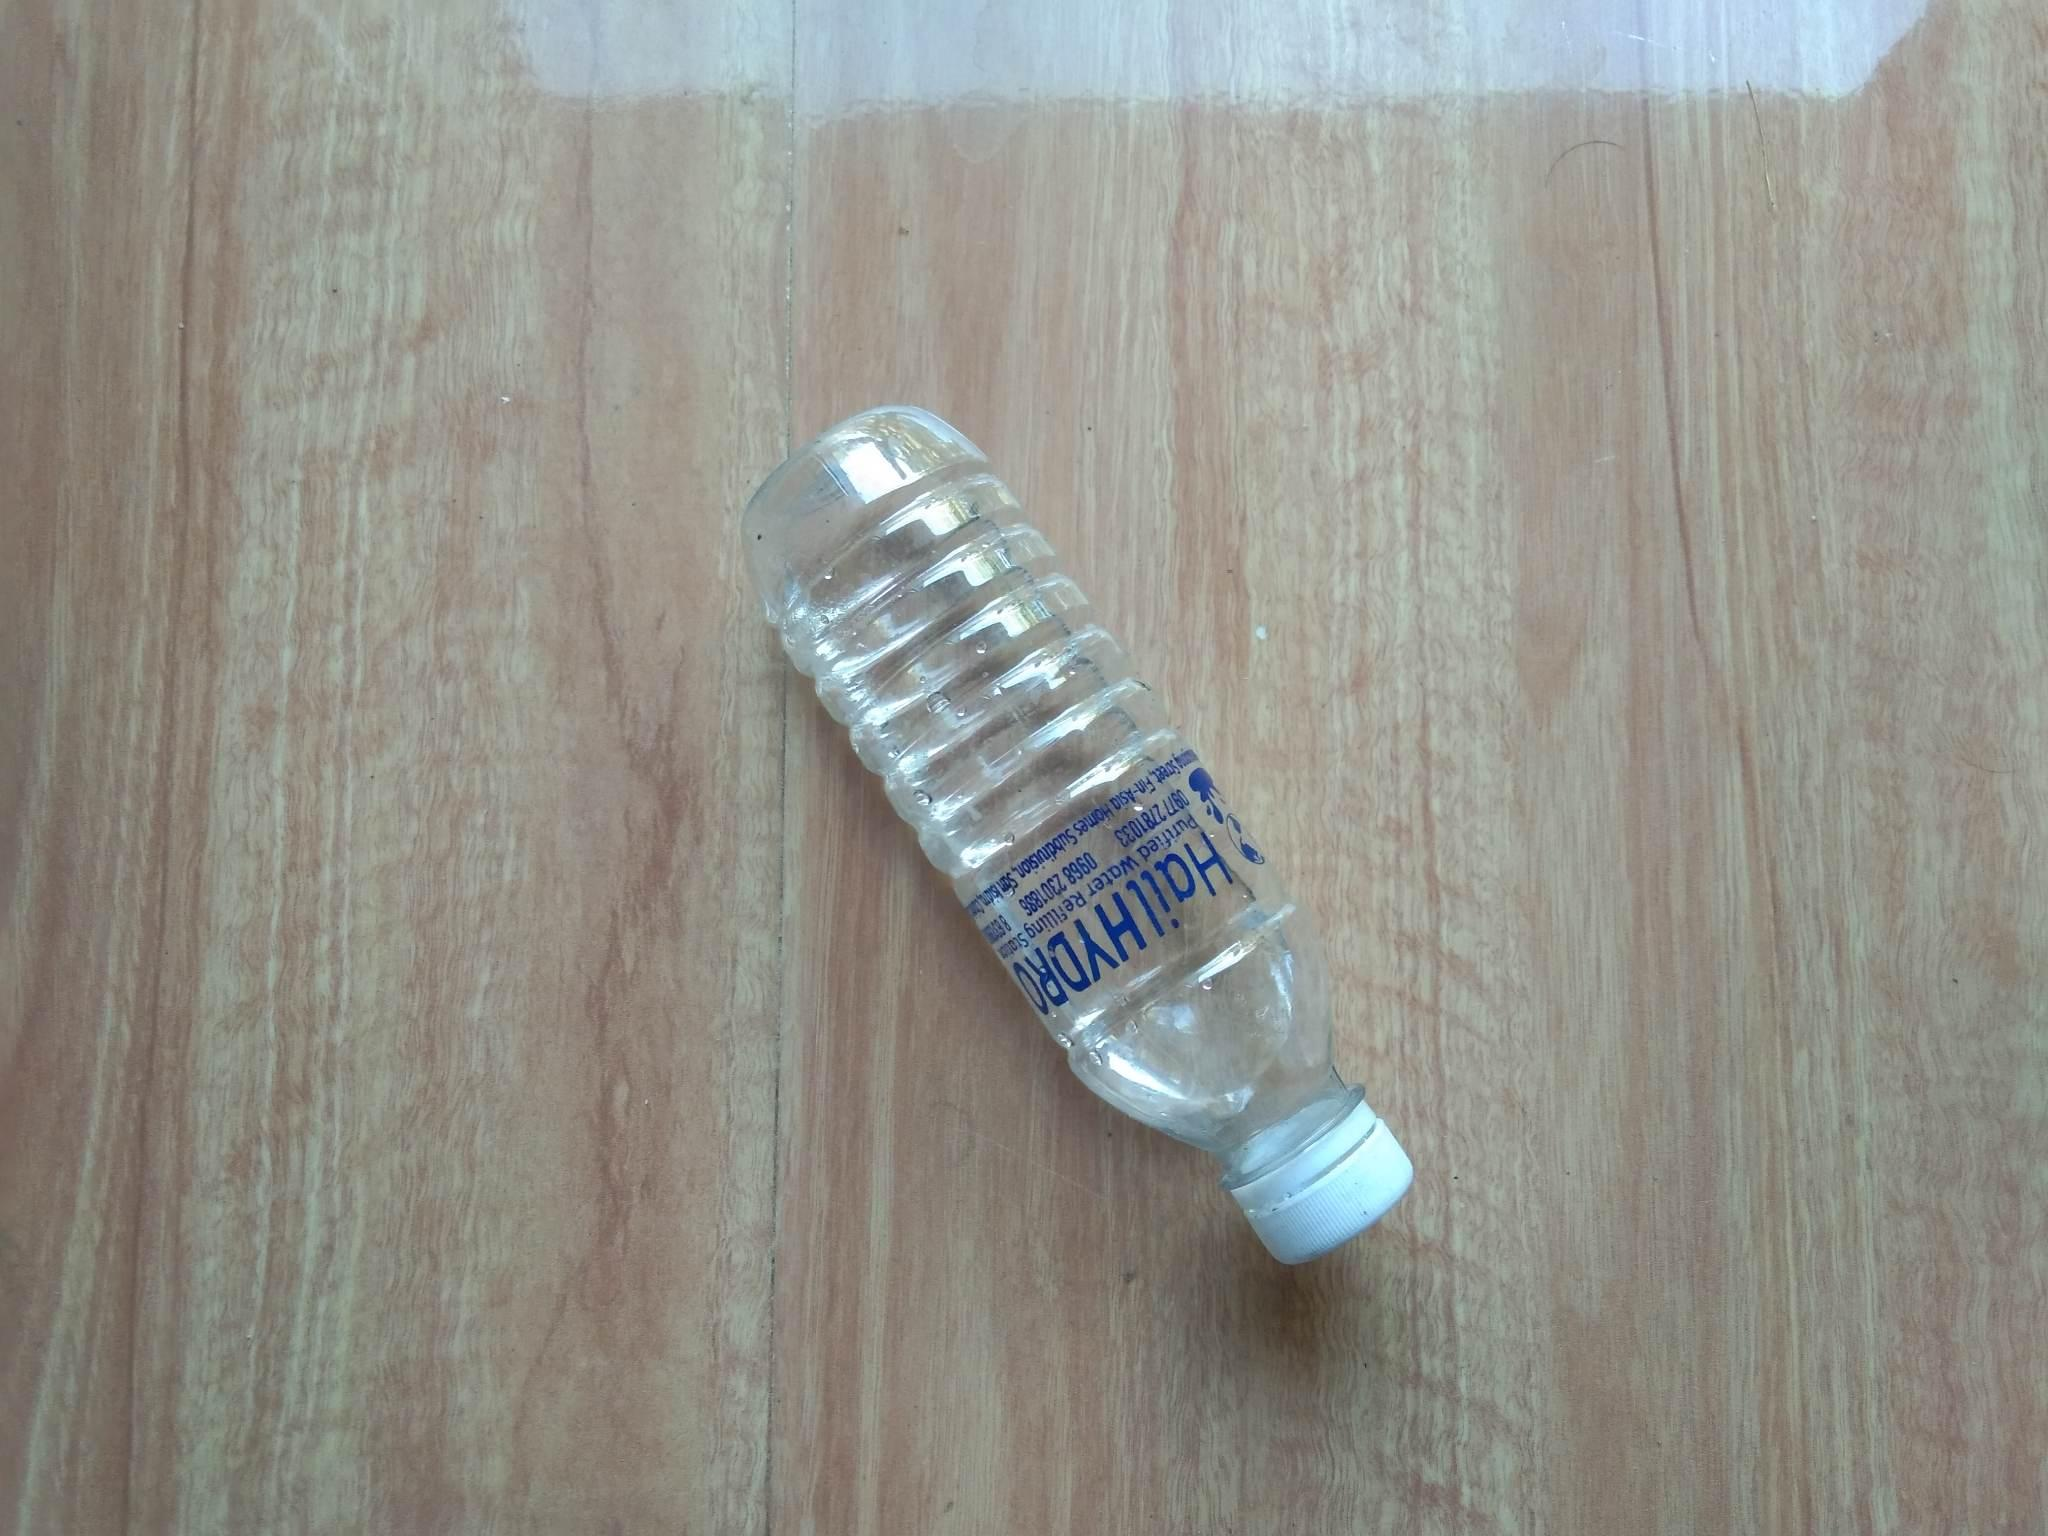plastic: (561, 332, 1537, 1284)
